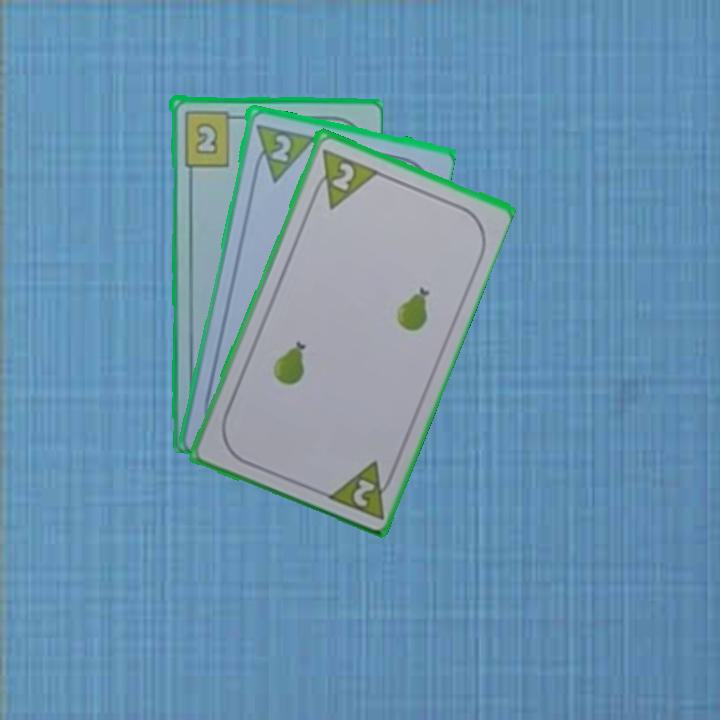2b: (180, 107, 241, 168)
2p: (321, 456, 399, 522), (328, 158, 357, 193), (267, 130, 294, 165)
